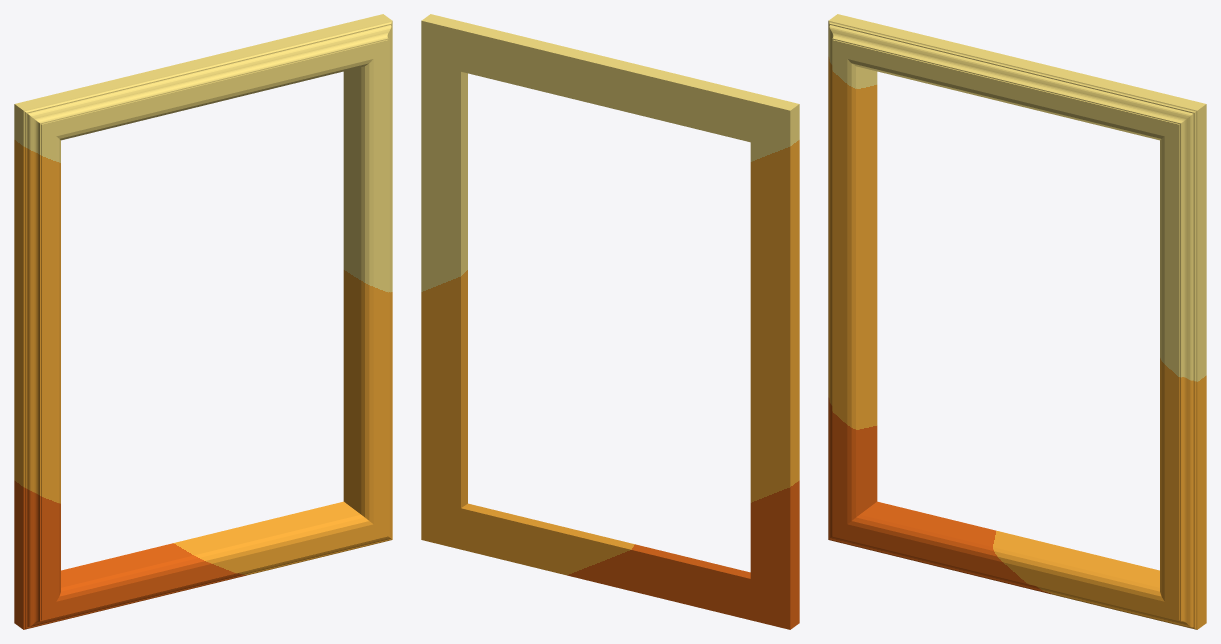
The model's file is Marco_Pinturas.fbx.
3 views of the same model, side by side, from view 1: azimuth 30°, elevation 25°; view 2: azimuth 150°, elevation 25°; view 3: azimuth 330°, elevation 25° (orthographic).
Parts seen in each view (by area): view 1: Cube.005; view 2: Cube.005; view 3: Cube.005.
Part boxes in pixels (left/top/right/bottom): Cube.005: left=14, top=14, right=392, bottom=629; Cube.005: left=421, top=14, right=799, bottom=629; Cube.005: left=828, top=14, right=1206, bottom=629.
Bounding box in the file's own units: 405 × 545 × 30.47.
1 material, 1 textured.
